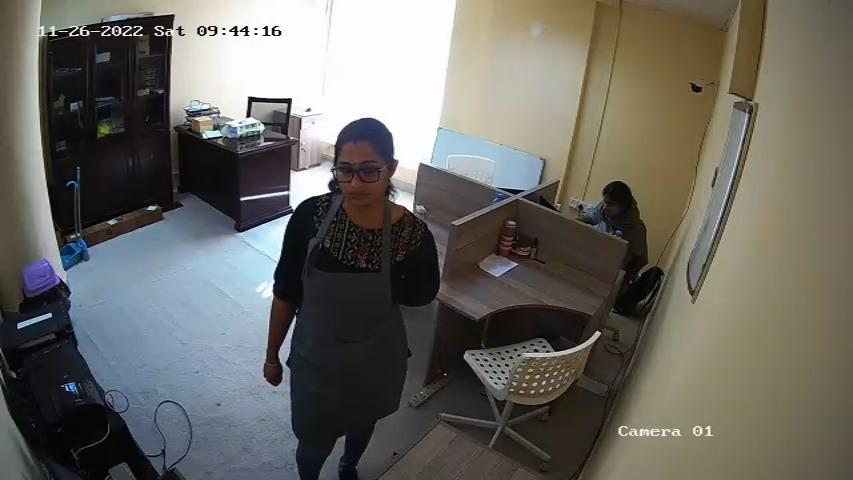apron: (289, 204, 406, 411)
